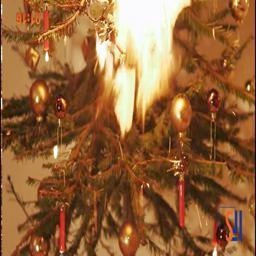fire: (87, 0, 200, 137)
